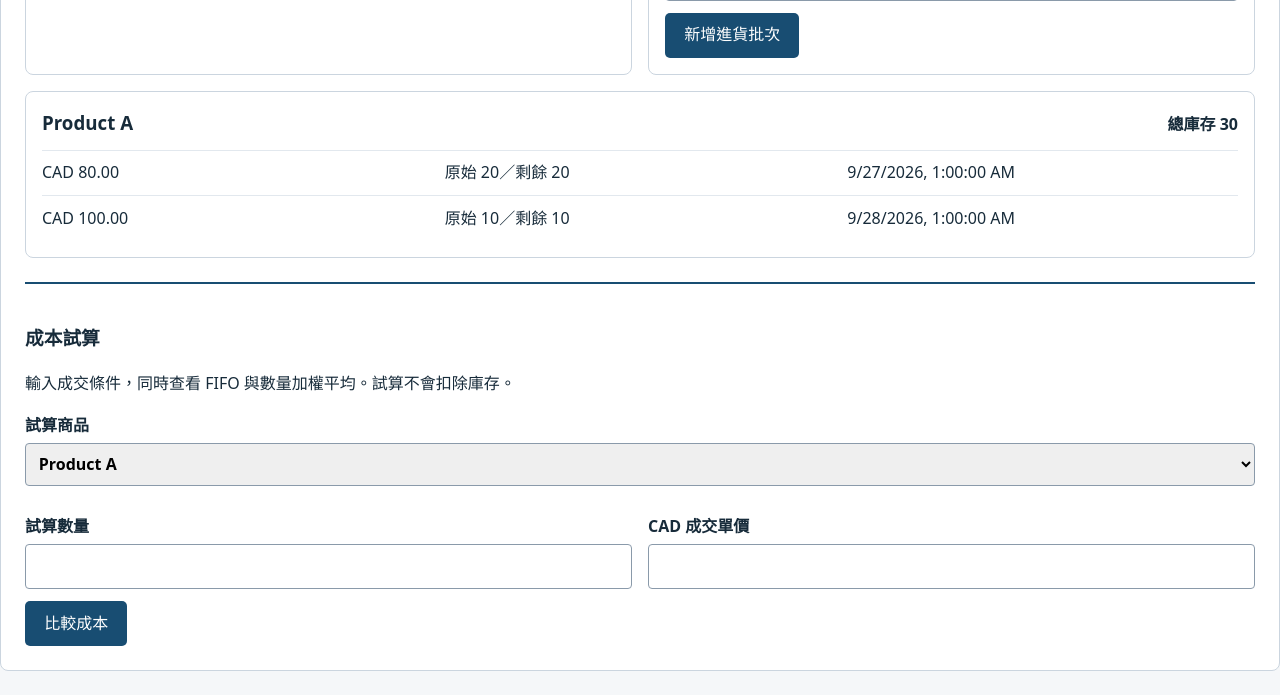
Test: 商品、進貨與庫存 › 分別顯示庫存不足與一般後端失敗
(page scrolled)
Check: the dropdown labelled "試算商品" shows "Product A", box 25,443 -> 1255,486
Type "31" into the number field labelled "試算數量" at coordinates (328, 566), box 25,544 -> 632,589
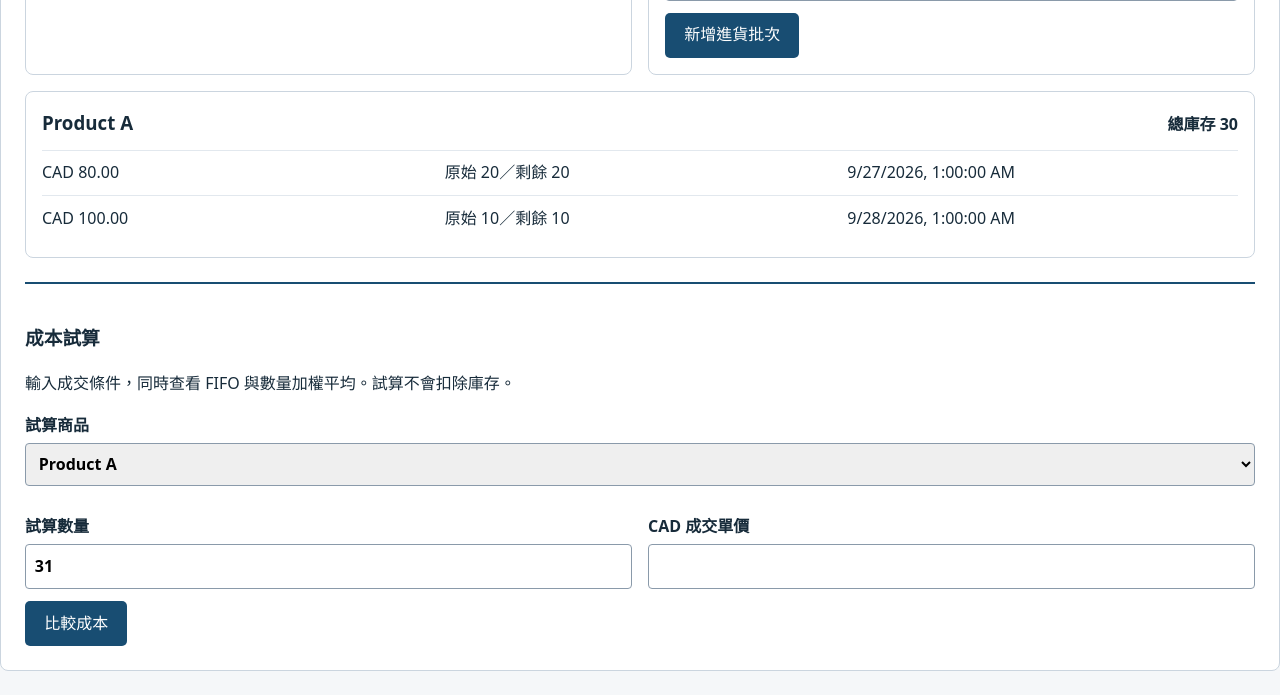
Type "120" into the number field labelled "CAD 成交單價" at coordinates (952, 566), box 648,544 -> 1255,589
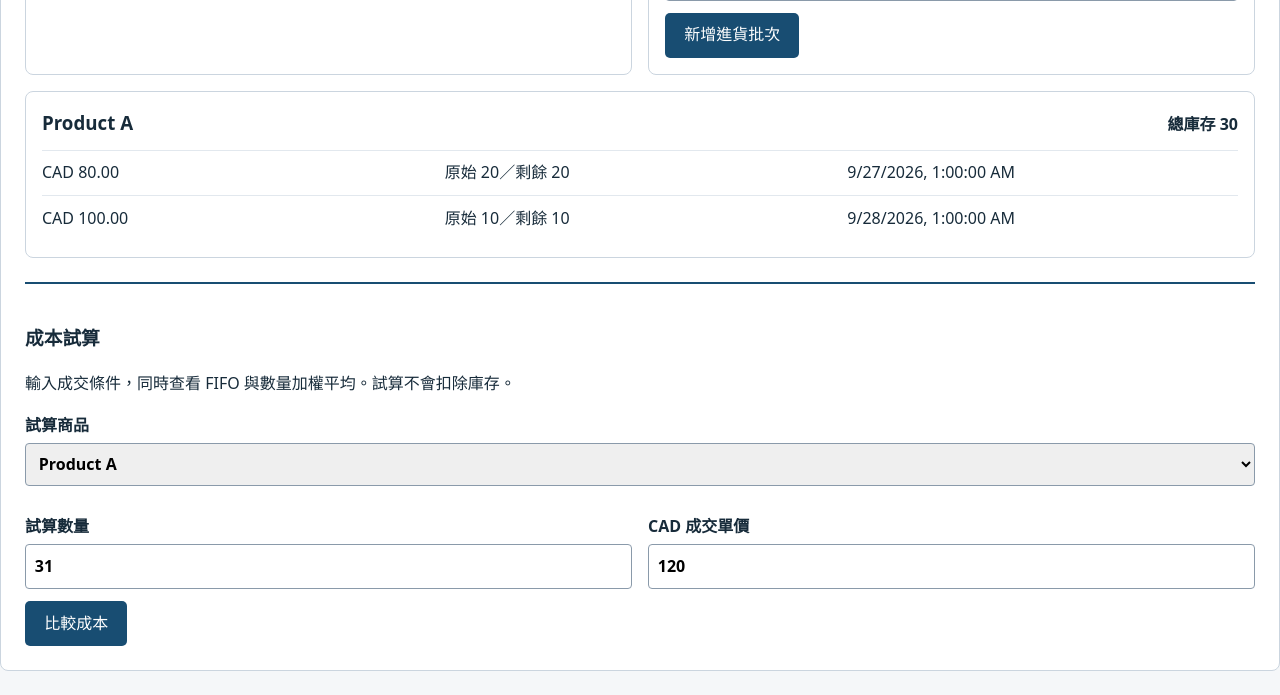
Click the button "比較成本" at coordinates (76, 623), box 25,601 -> 127,646
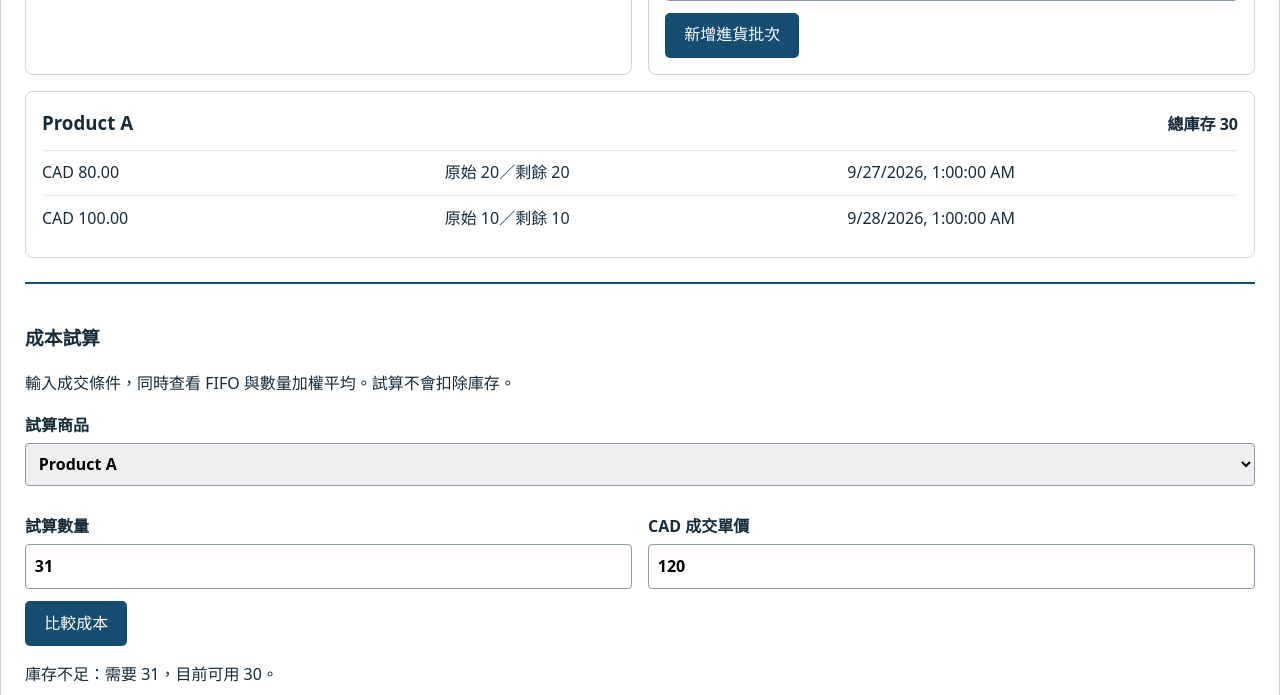
Check: the text "庫存不足：需要 31，目前可用 30。" is shown, box 25,663 -> 278,685
Replace the text in the number field labelled "試算數量" with "25" at coordinates (328, 566), box 25,544 -> 632,589
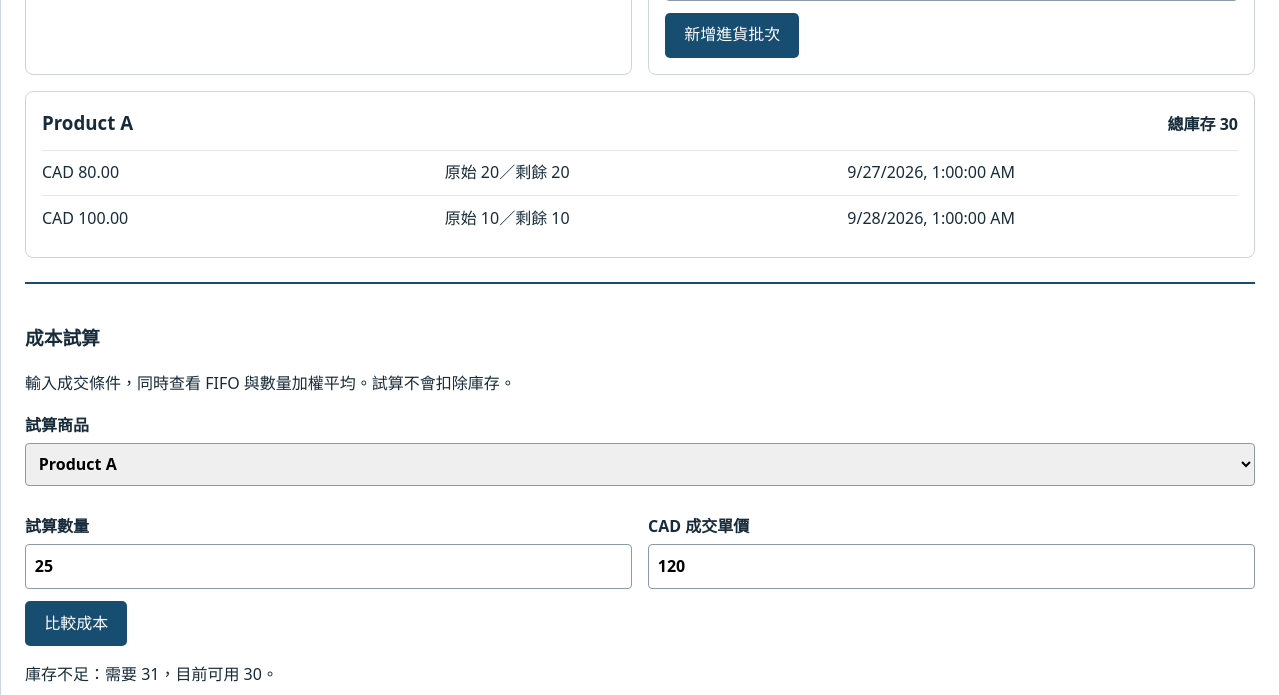
Click the button "比較成本" at coordinates (76, 623), box 25,601 -> 127,646
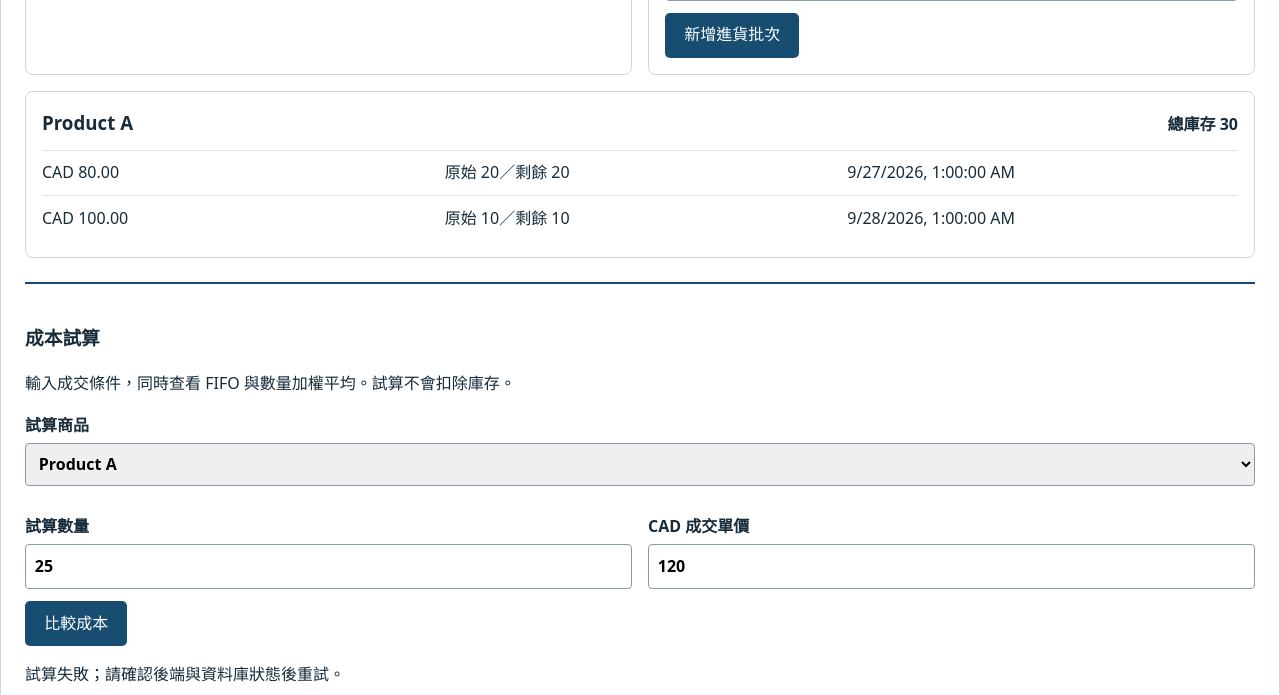
Check: the text "試算失敗；請確認後端與資料庫狀態後重試。" is shown, box 25,663 -> 345,685
